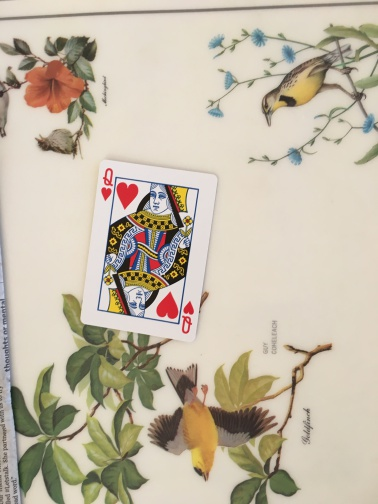queen: (80, 159, 219, 340)
